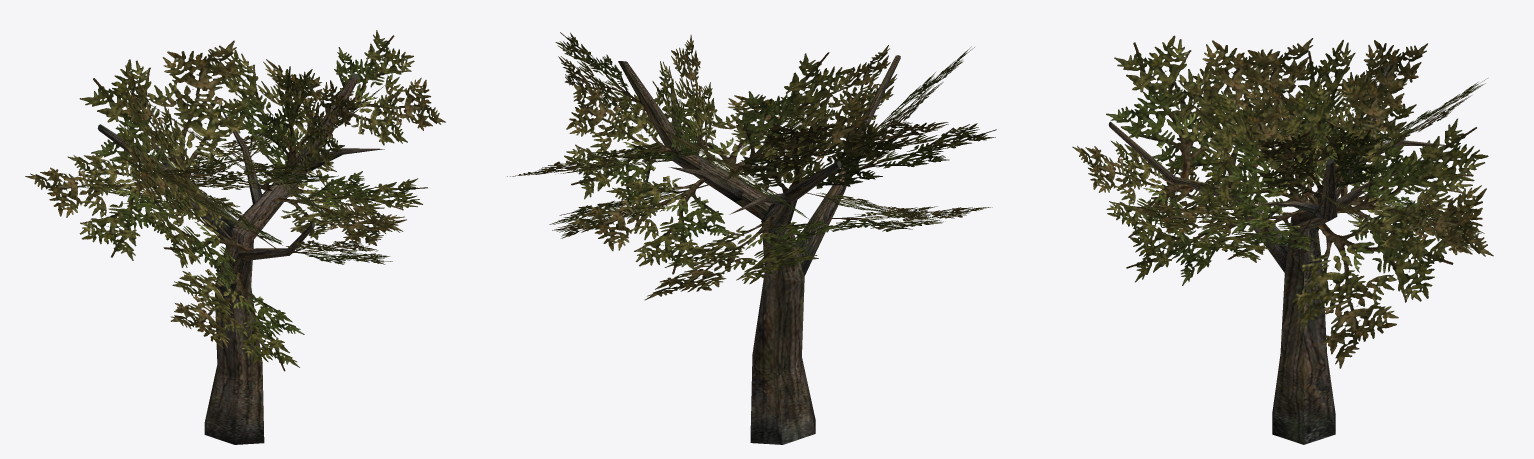
The picture shows the model from 3 angles, left to right: view 1: azimuth 30°, elevation 25°; view 2: azimuth 150°, elevation 25°; view 3: azimuth 270°, elevation 25°; orthographic projection. The views are drawn at different scales.
Parts seen in each view (by area): view 1: wj27; view 2: wj27; view 3: wj27.
Part boxes in pixels (x1,y1,x2,y2): wj27: [25, 30, 445, 444]; wj27: [507, 32, 996, 444]; wj27: [1072, 35, 1493, 444].
Size of the model in its own units: 1258 by 1097 by 1204.
1 material, 1 textured.
